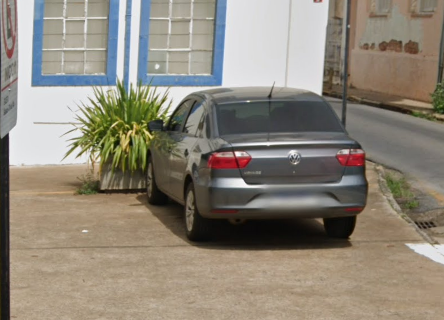car: (139, 77, 373, 247)
